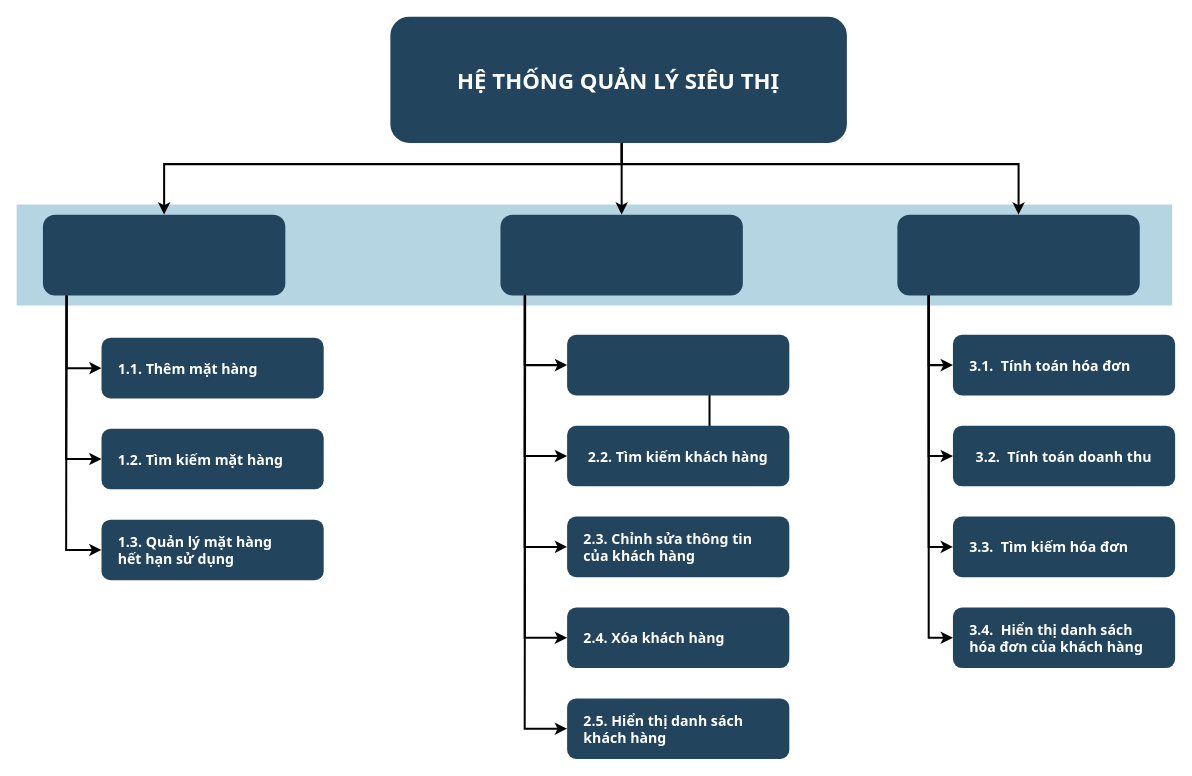
This 1192x776 diagram has some shape labels left out. The shapes that lost their labels are listed below. From the top down, each one's centre as x and y in pixels, then its label:
[163,254]: 1. Quản lý mặt hàng
[621,254]: 2. Quản lý khách hàng
[1018,254]: 3. Quản lý hóa đơn
[678,364]: 2.1. Thêm khách hàng mới
